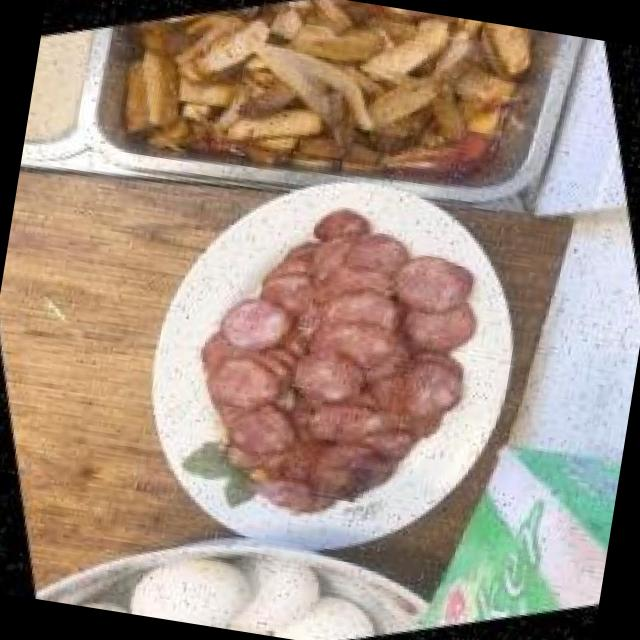chinese_sausage: (225, 235, 468, 503)
